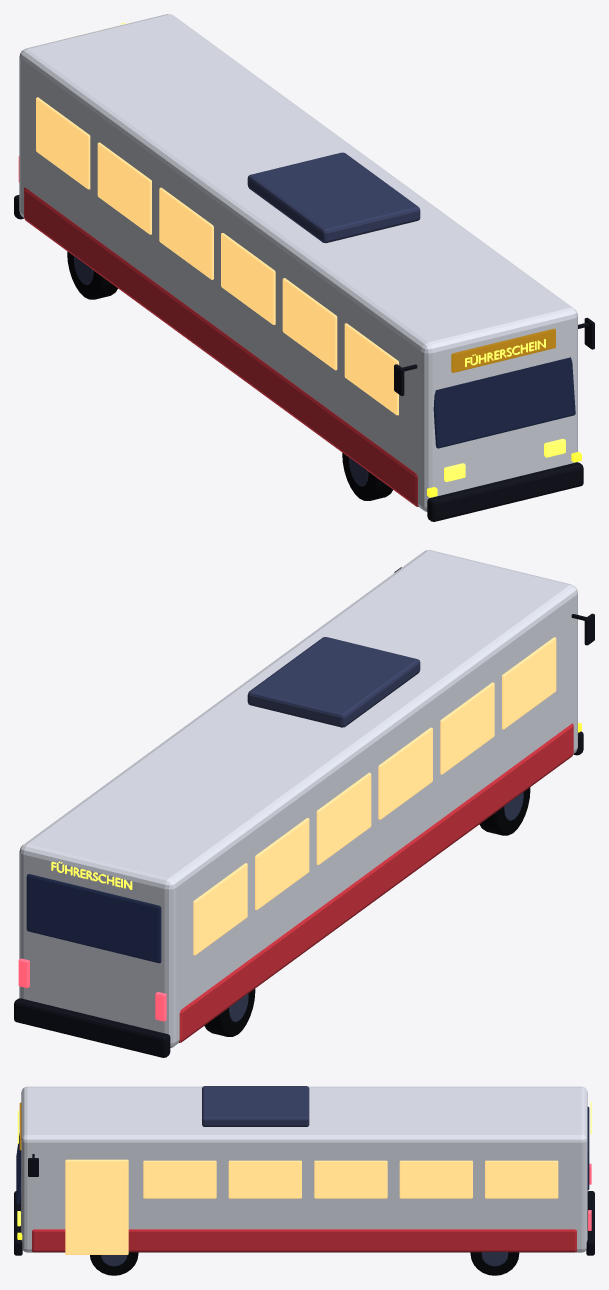
The model's file is bus.glb.
The picture shows the model from 3 angles, top to bottom: view 1: azimuth 30°, elevation 25°; view 2: azimuth 150°, elevation 25°; view 3: azimuth 270°, elevation 25°; orthographic projection. The views are drawn at different scales.
Parts seen in each view (by area): view 1: bus-hull, bus-skirt, bus-roof-ac, bus-windshield, bus-bumper-f, bus-win-l--2.55, bus-win-l-0.95, bus-win-l-2.7, bus-win-l-4.45, bus-win-l--0.8, bus-win-l--4.3, bus-display (+2 smaller); view 2: bus-hull, bus-skirt, bus-roof-ac, bus-rearglass, bus-bumper-r, bus-win-l-0.95, bus-win-l-4.45, bus-win-l--2.55, bus-win-l--4.3, bus-win-l--0.8, bus-win-l-2.7, wheel-fl (+1 smaller); view 3: bus-hull, bus-skirt, bus-door, bus-roof-ac, bus-win-r--0.8, bus-win-r-2.7, bus-win-r-4.45, bus-win-r--2.55, bus-win-r-0.95, wheel-rr, wheel-fr, bus-bumper-r (+3 smaller).
Boxes of the visible parts, box(x1,y1,x2,y2) form: bus-hull: box(19, 14, 577, 511); bus-skirt: box(24, 187, 418, 506); bus-roof-ac: box(247, 152, 420, 243); bus-windshield: box(433, 357, 575, 448); bus-bumper-f: box(427, 462, 583, 521); bus-win-l--2.55: box(282, 278, 337, 370); bus-win-l-0.95: box(159, 187, 213, 279); bus-win-l-2.7: box(97, 142, 151, 234); bus-win-l-4.45: box(36, 97, 90, 189); bus-win-l--0.8: box(221, 233, 275, 324); bus-win-l--4.3: box(344, 323, 398, 415); bus-display: box(451, 328, 555, 372); bus-hull: box(19, 550, 577, 1047); bus-skirt: box(179, 723, 573, 1042); bus-roof-ac: box(247, 637, 420, 727); bus-rearglass: box(26, 874, 161, 963); bus-bumper-r: box(14, 998, 170, 1057); bus-win-l-0.95: box(316, 772, 371, 864); bus-win-l-4.45: box(193, 863, 247, 955); bus-win-l--2.55: box(440, 682, 494, 774); bus-win-l--4.3: box(502, 637, 556, 729); bus-win-l--0.8: box(378, 727, 432, 819); bus-win-l-2.7: box(255, 818, 309, 909); wheel-fl: box(479, 787, 530, 835); bus-hull: box(21, 1086, 587, 1252); bus-skirt: box(31, 1229, 577, 1252); bus-door: box(65, 1159, 128, 1254); bus-roof-ac: box(202, 1086, 309, 1126); bus-win-r--0.8: box(228, 1160, 301, 1198); bus-win-r-2.7: box(399, 1160, 472, 1198); bus-win-r-4.45: box(485, 1160, 558, 1198); bus-win-r--2.55: box(143, 1160, 216, 1198); bus-win-r-0.95: box(314, 1160, 387, 1198); wheel-rr: box(470, 1252, 519, 1275); wheel-fr: box(90, 1252, 138, 1275); bus-bumper-r: box(586, 1191, 594, 1255).
Bounding box in the file's own units: 3.18 × 3.36 × 11.9.
